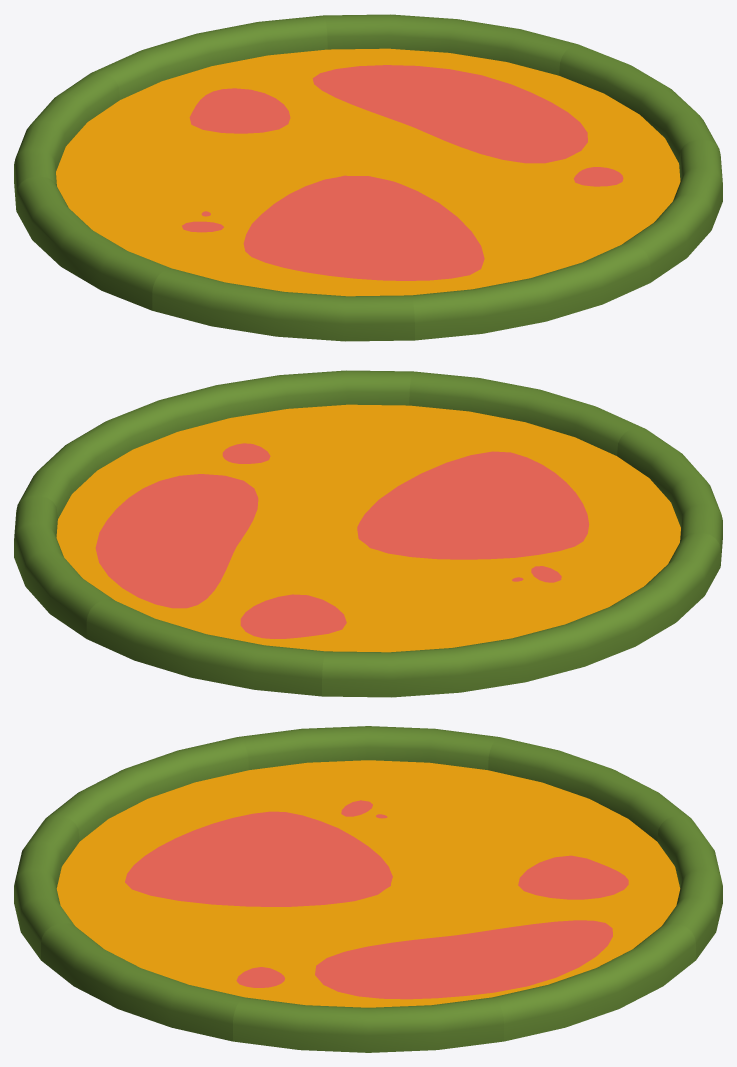
The model's file is Dough .fbx.
3 renders of one model, top to bottom at view 1: azimuth 30°, elevation 25°; view 2: azimuth 150°, elevation 25°; view 3: azimuth 270°, elevation 25°, orthographic.
Parts seen in each view (by area): view 1: Dough.055, Dough.051, Dough.054, Dough.050, Dough.056, Dough.052, Dough.053, Dough.057; view 2: Dough.057, Dough.053, Dough.050, Dough.054, Dough.056, Dough.052, Dough.051, Dough.055; view 3: Dough.056, Dough.052, Dough.051, Dough.053, Dough.055, Dough.057, Dough.050, Dough.054.
Boxes of the visible parts, bbox=[...] form: Dough.055: bbox=[152, 181, 414, 341]; Dough.051: bbox=[323, 14, 577, 180]; Dough.054: bbox=[368, 181, 650, 340]; Dough.050: bbox=[96, 15, 368, 180]; Dough.056: bbox=[16, 176, 367, 310]; Dough.052: bbox=[369, 44, 718, 180]; Dough.053: bbox=[369, 140, 722, 282]; Dough.057: bbox=[14, 71, 367, 209]; Dough.057: bbox=[322, 537, 584, 697]; Dough.053: bbox=[159, 370, 413, 536]; Dough.050: bbox=[86, 537, 368, 696]; Dough.054: bbox=[368, 371, 640, 536]; Dough.056: bbox=[369, 532, 720, 666]; Dough.052: bbox=[18, 400, 367, 536]; Dough.051: bbox=[14, 496, 367, 638]; Dough.055: bbox=[369, 427, 722, 565]; Dough.056: bbox=[237, 726, 499, 891]; Dough.052: bbox=[233, 892, 503, 1052]; Dough.051: bbox=[369, 892, 695, 1041]; Dough.053: bbox=[41, 892, 367, 1041]; Dough.055: bbox=[46, 737, 367, 891]; Dough.057: bbox=[369, 737, 690, 891]; Dough.050: bbox=[369, 815, 722, 959]; Dough.054: bbox=[14, 815, 367, 959].
Bounding box in the file's own units: 2 × 0.1032 × 2.
